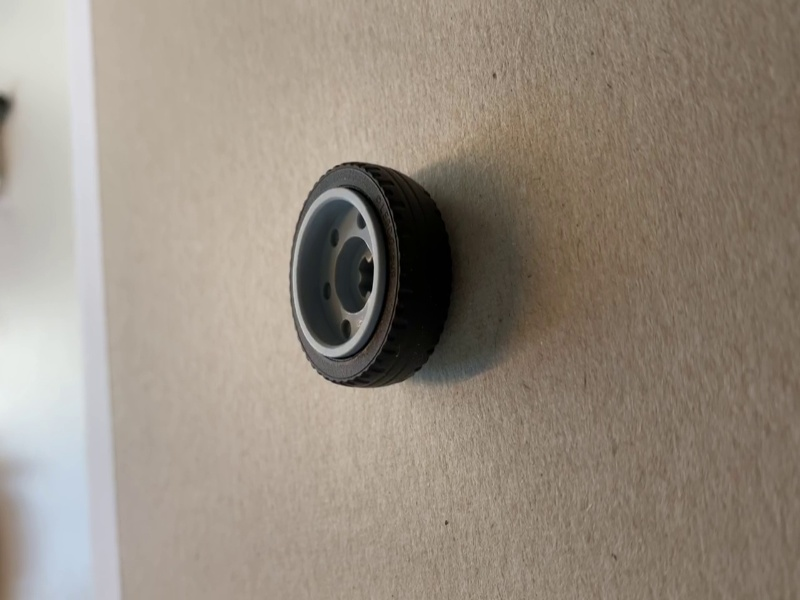tire: (287, 158, 457, 390)
